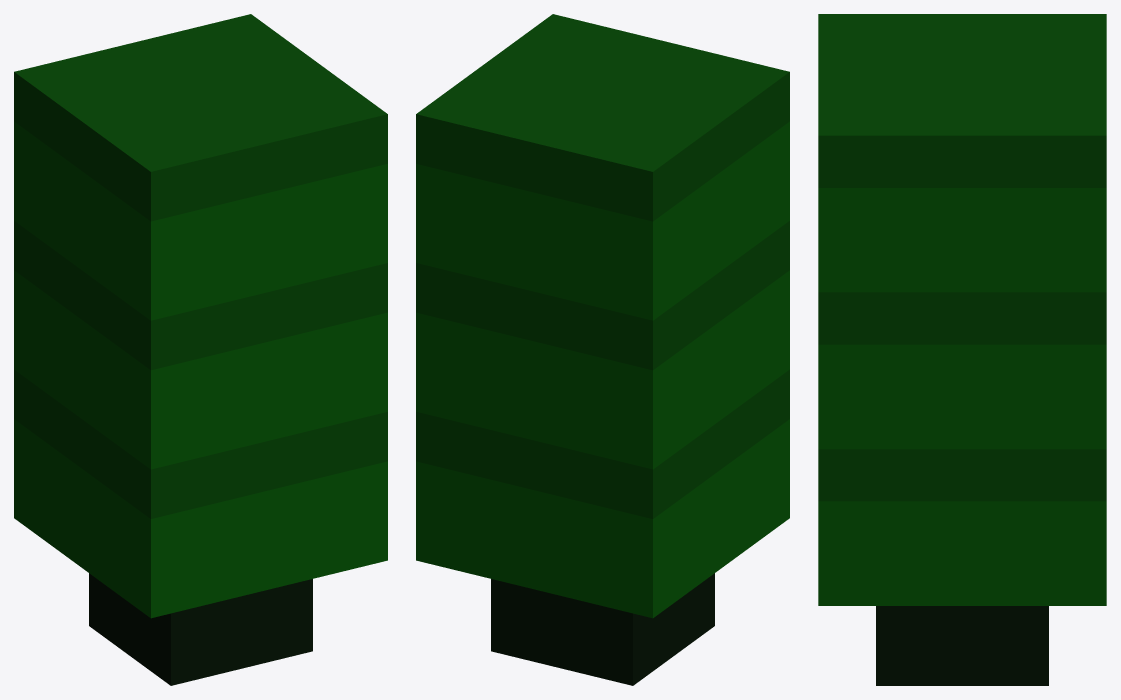
File: tree.obj
3 renders of one model, left to right at view 1: azimuth 30°, elevation 25°; view 2: azimuth 150°, elevation 25°; view 3: azimuth 270°, elevation 25°, orthographic. The views are drawn at different scales.
Parts seen in each view (by area): view 1: tree; view 2: tree; view 3: tree.
Part boxes in pixels (x1=…): tree: x1=14, y1=14, x2=387, y2=685; tree: x1=416, y1=14, x2=789, y2=685; tree: x1=818, y1=14, x2=1106, y2=685.
Bounding box in the file's own units: 5 × 11 × 5.
1 material, 1 textured.
